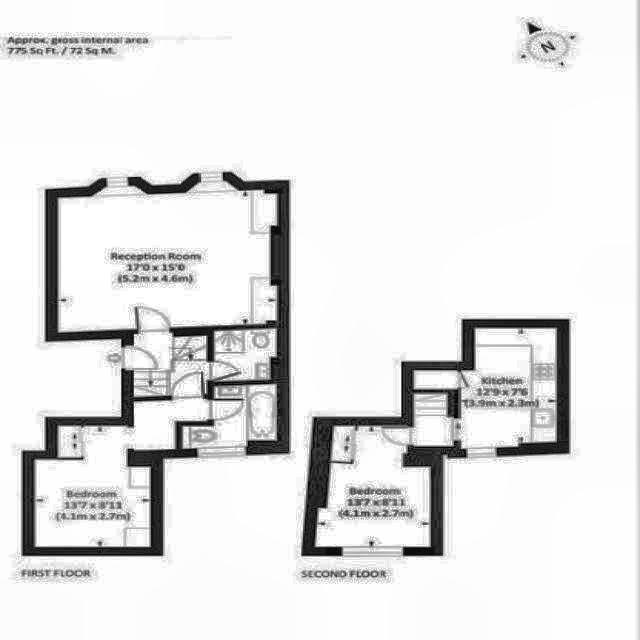room: (51, 178, 284, 332), (34, 399, 208, 547), (413, 328, 557, 448), (315, 425, 431, 548), (182, 384, 278, 448), (133, 330, 209, 397), (212, 328, 279, 382)
